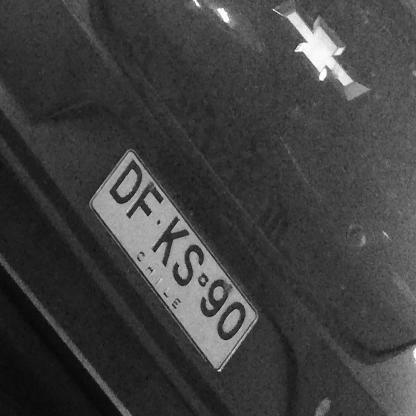Patente: (90, 149, 258, 370)
